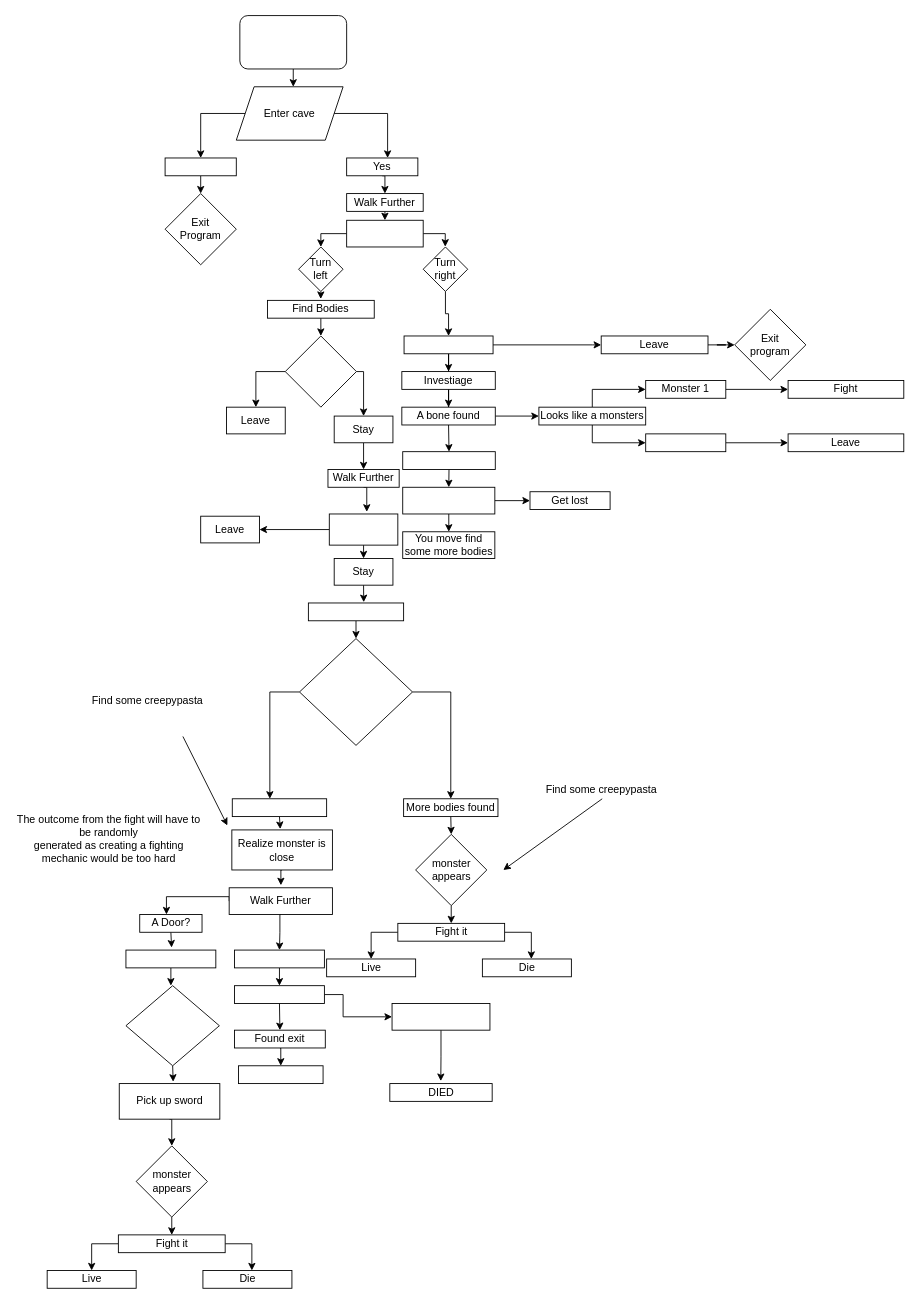
This 919x1304 diagram has some shape labels left out. Each missing label, with the centre of its shape:
"Backtrack" goes at point (279, 994).
"Bodies are warm" goes at point (320, 371).
"Didn't find exit" goes at point (440, 1016).
"Find the sword to defeat all monsters" goes at point (172, 1025).
"Footprints found" goes at point (279, 807).
"Fork in the passage" goes at point (384, 233).
"Hear a Scream" goes at point (448, 344).
"Hear footsteps" goes at point (363, 529).
"Looks human" goes at point (448, 460).
"Monster 2" goes at point (685, 442).
"No" goes at point (200, 166).
"Open door" goes at point (170, 958).
"Program Starts" goes at point (293, 42).
"RUN" goes at point (279, 958).
"Scream is heard" goes at point (355, 611).
"Survived" goes at point (280, 1074).
"Try to decipher what monster it is" goes at point (356, 691).
"Try to find more bodies" goes at point (448, 500).
